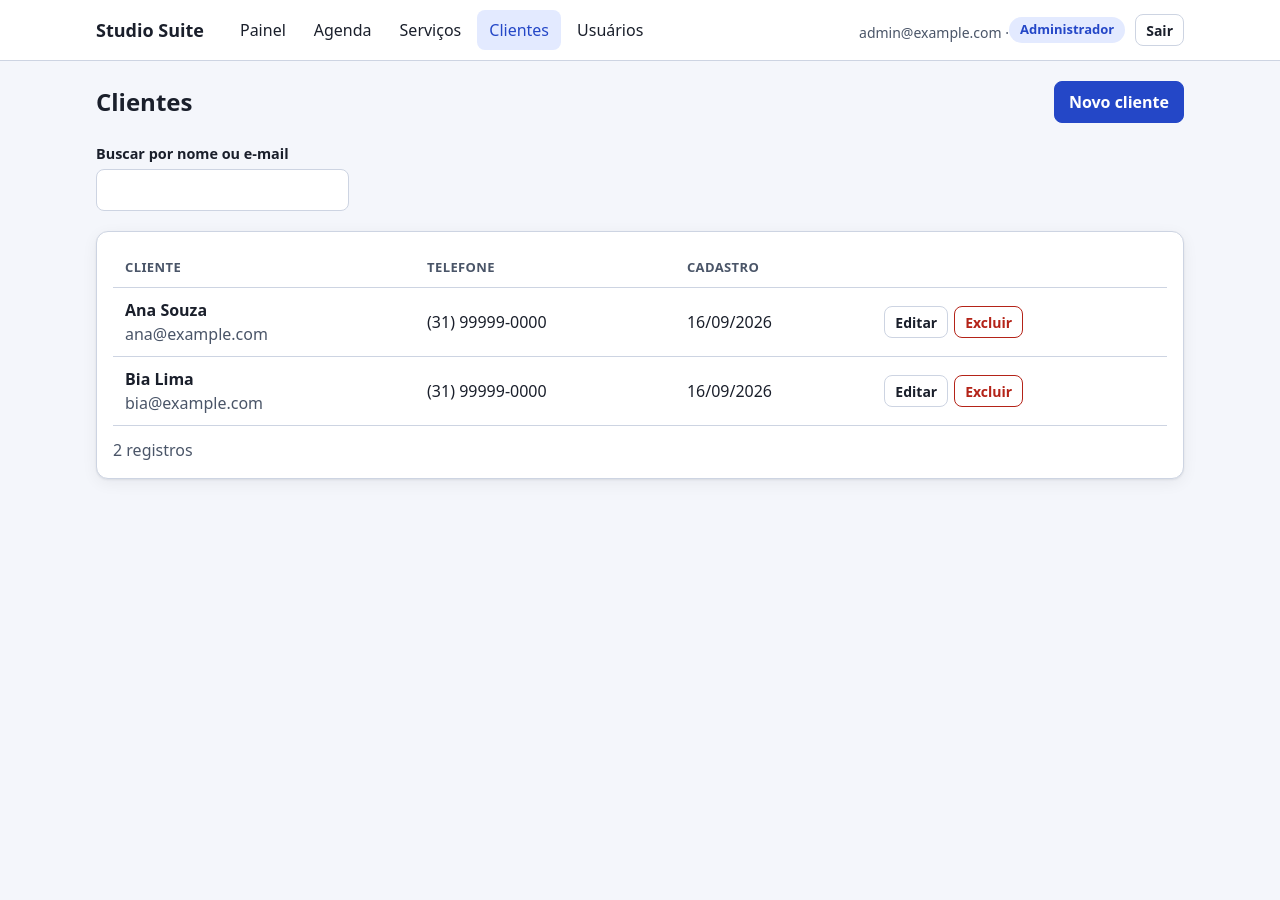
customers › validates locally (e-mail, phone) before sending
The width and height of the screenshot is (1280, 900).
Expected: the heading "Clientes" is shown, [96, 87, 192, 117]
Expected: the text "Ana Souza" is shown, [125, 299, 207, 321]
Step 1. Click the button "Novo cliente" → (1119, 102), box [1054, 81, 1184, 123]
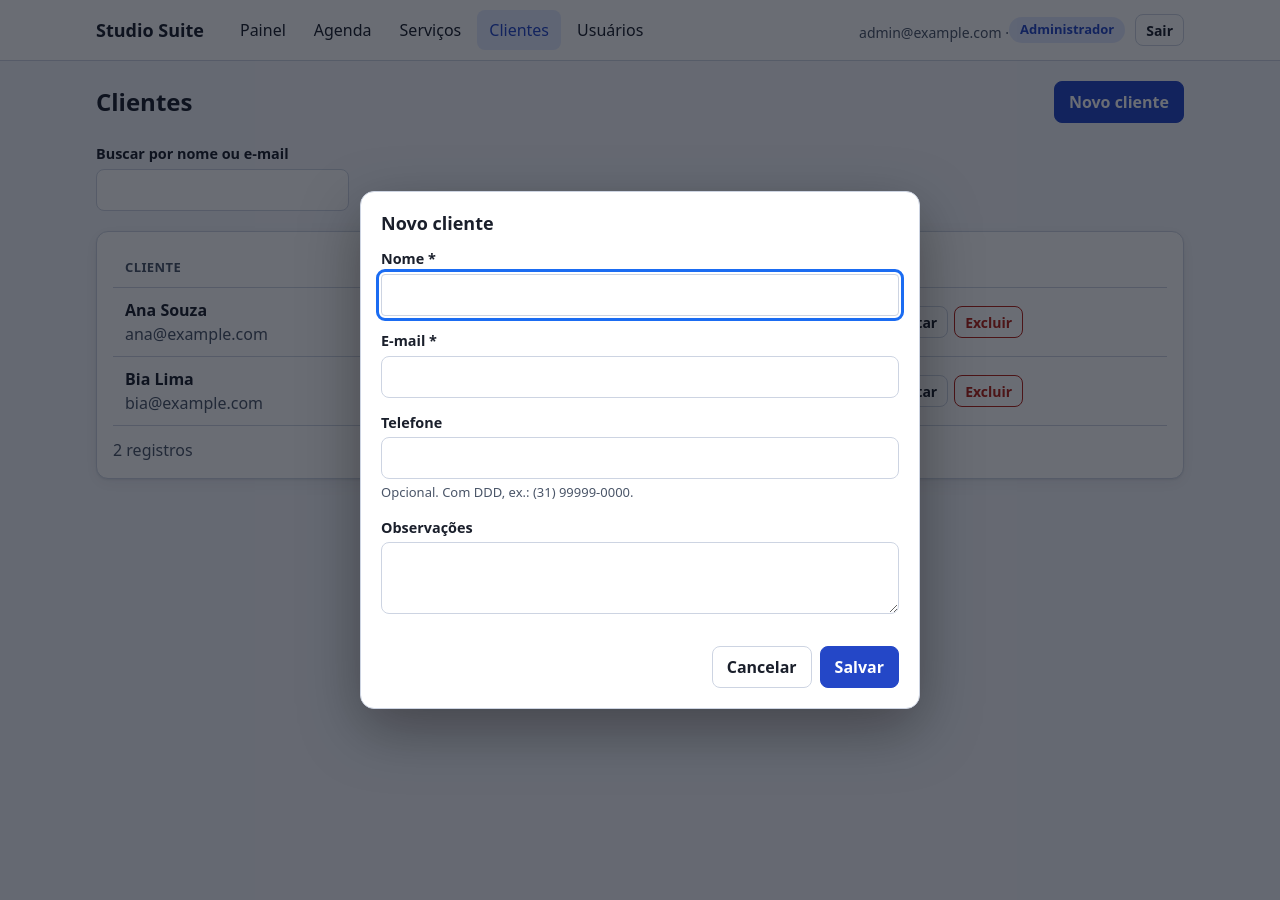
Step 2. Type "X" into the field labelled "Nome *" → (640, 295), box [381, 274, 899, 316]
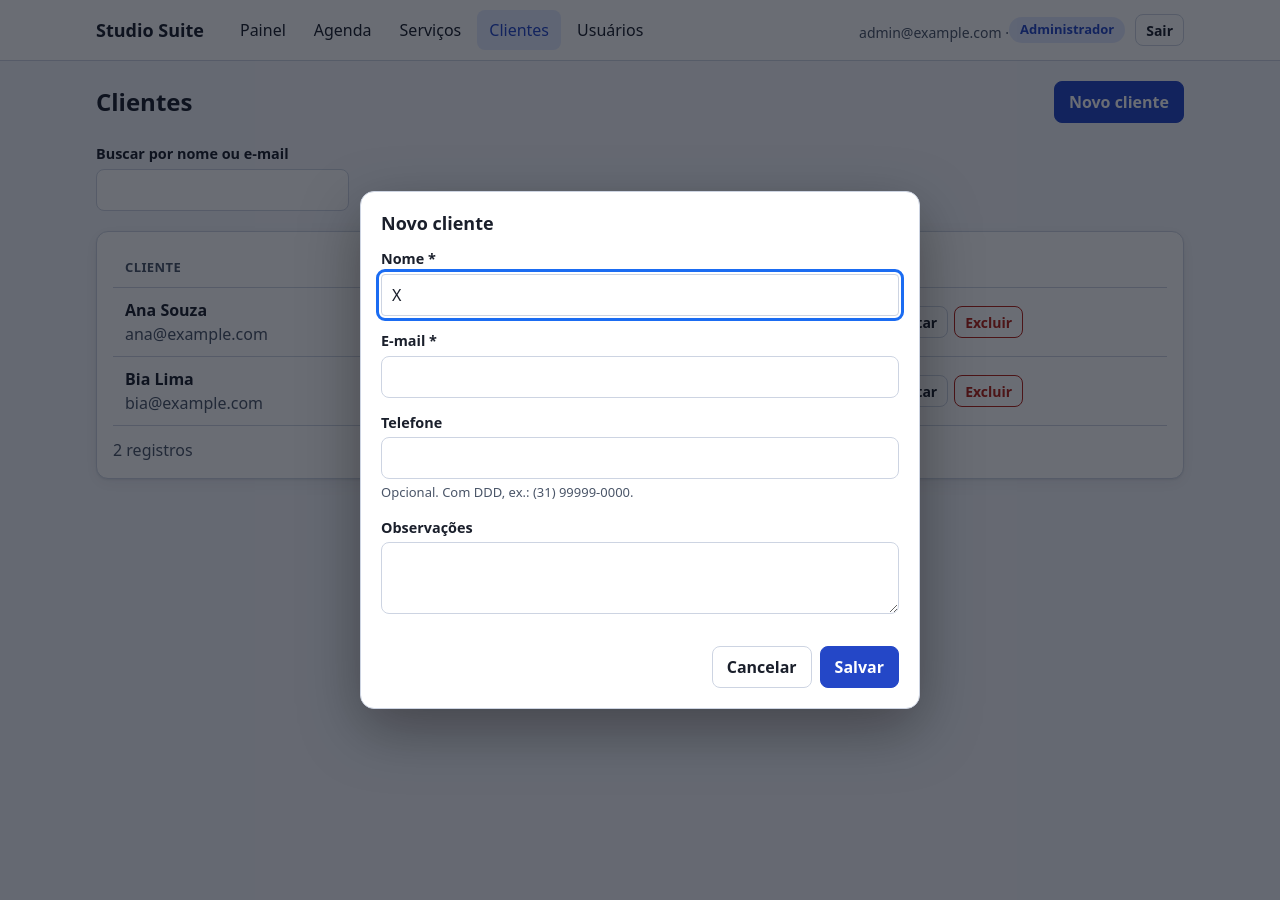
Step 3. Type "not-an-email" into the field labelled "E-mail *" → (640, 376), box [381, 356, 899, 398]
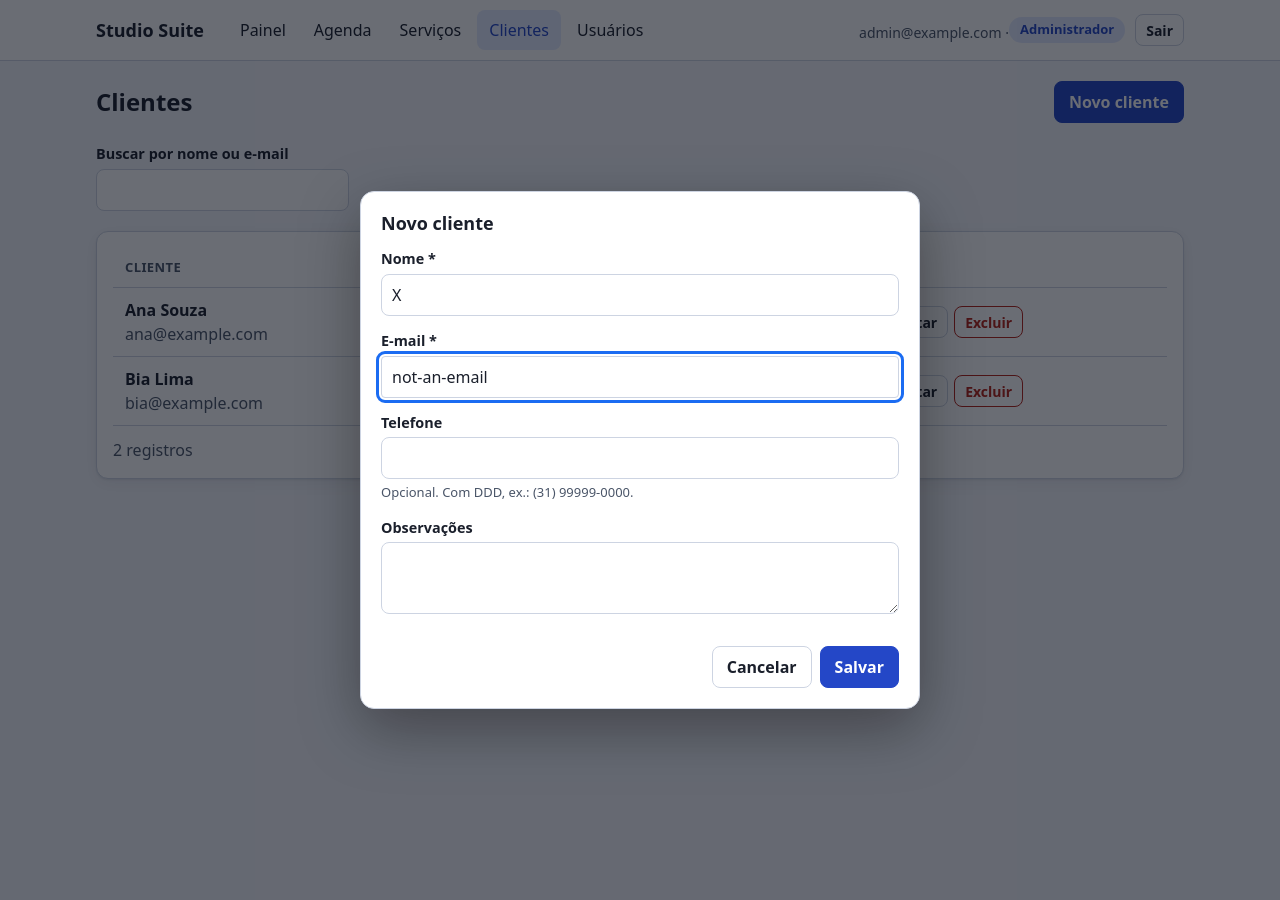
Step 4. Type "123" into the field labelled "Telefone" → (640, 458), box [381, 437, 899, 479]
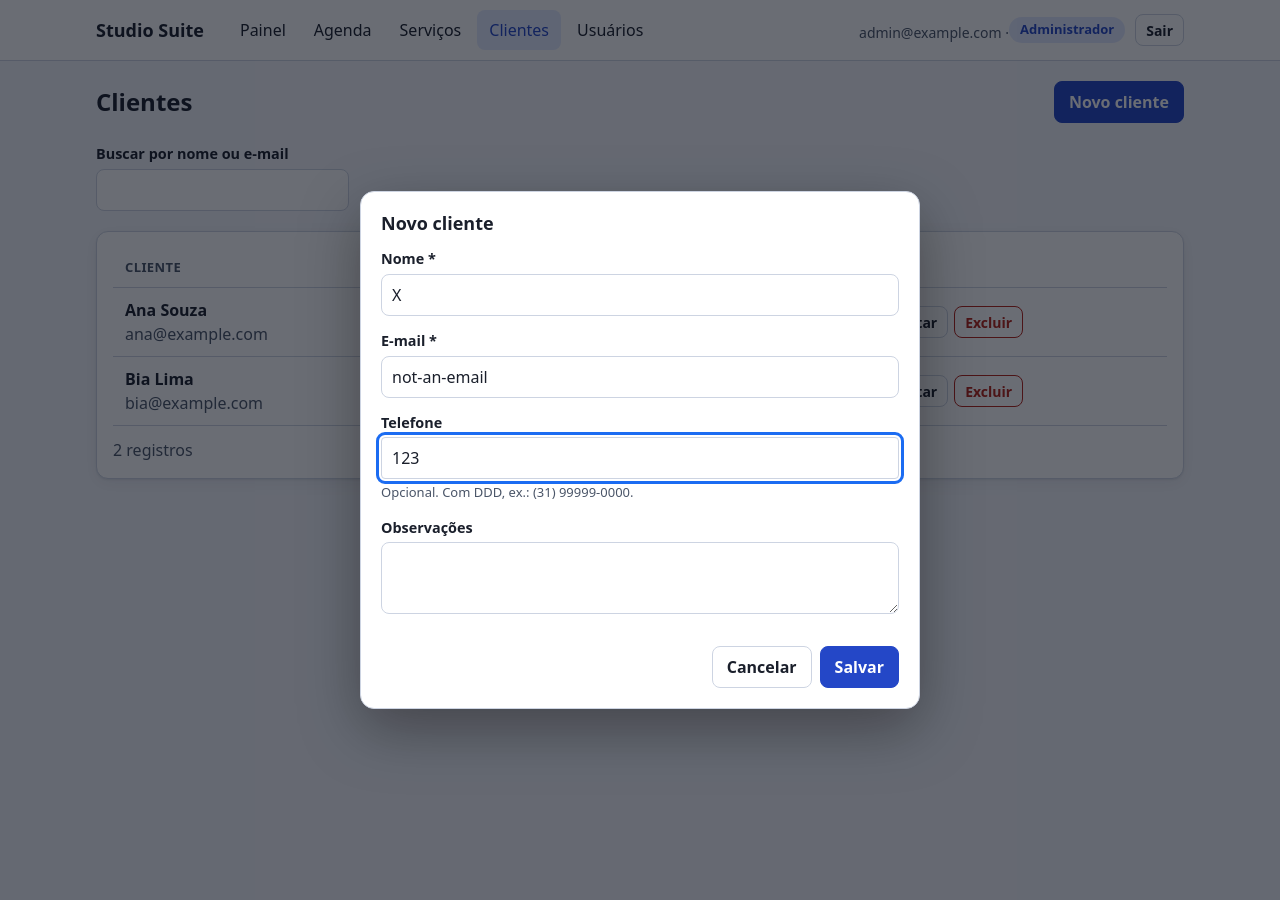
Step 5. Click the button "Salvar" → (859, 667), box [820, 646, 899, 688]
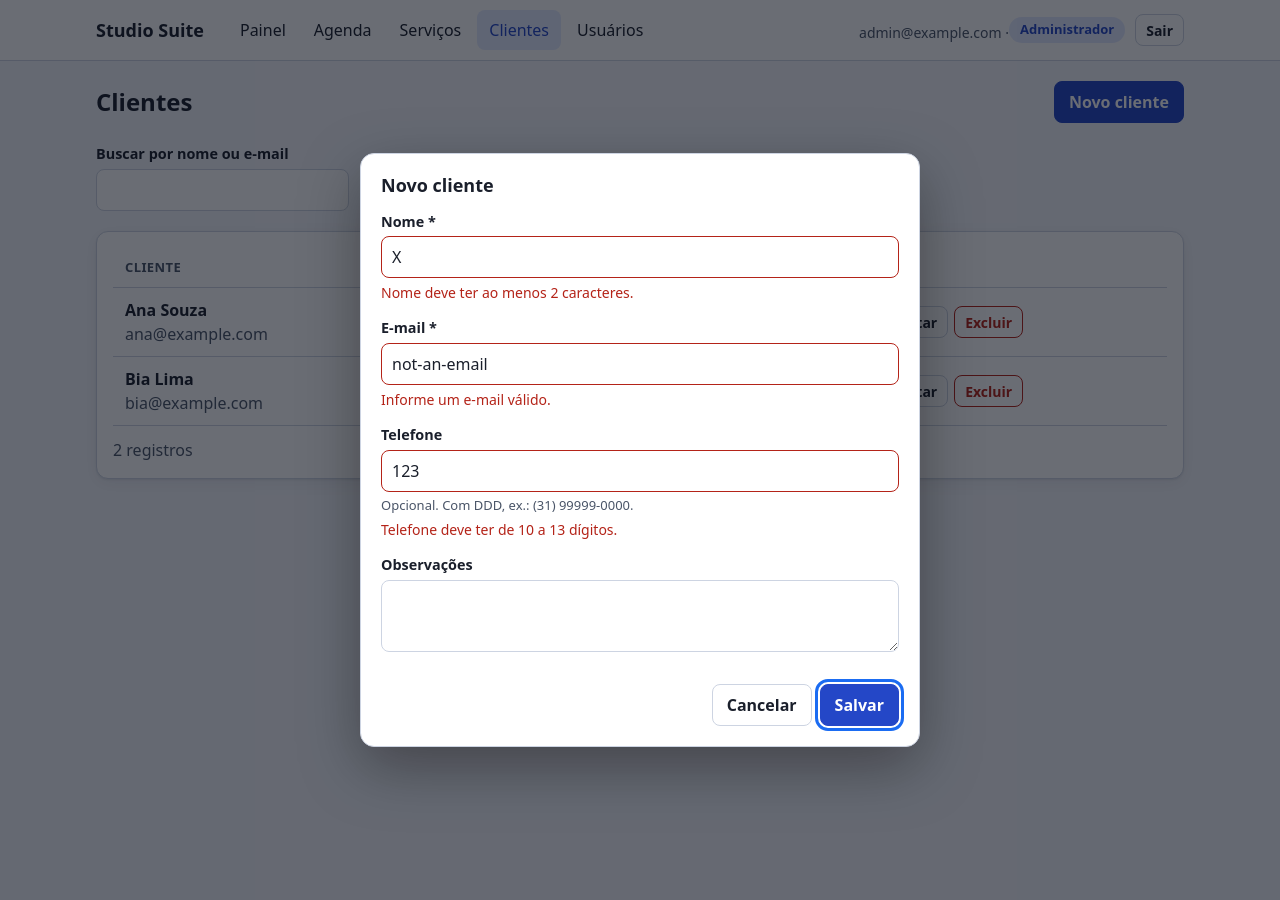
Result: the text "Nome deve ter ao menos 2 caracteres." is shown at [381, 283, 634, 302]
Result: the text "Informe um e-mail válido." is shown at [381, 390, 551, 409]
Result: the text "Telefone deve ter de 10 a 13 dígitos." is shown at [381, 520, 617, 539]
